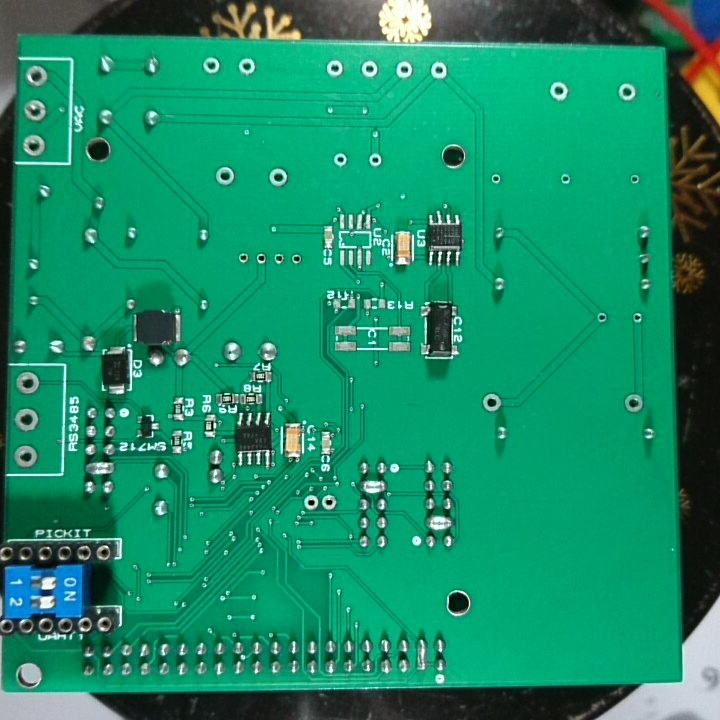F: (12, 405, 43, 434), (21, 96, 50, 126), (13, 369, 41, 399), (19, 131, 49, 158), (12, 442, 42, 469), (23, 63, 50, 91), (621, 391, 647, 418), (267, 164, 291, 192), (213, 165, 238, 191), (547, 79, 570, 103), (357, 58, 381, 81), (479, 391, 502, 414), (616, 79, 638, 103), (323, 58, 347, 80), (394, 58, 416, 82), (427, 57, 448, 81), (201, 53, 222, 77), (301, 492, 321, 515), (237, 55, 257, 77), (320, 492, 339, 514), (331, 151, 351, 169), (254, 249, 269, 269), (489, 171, 506, 188), (368, 153, 385, 170), (236, 249, 251, 268), (272, 249, 286, 269), (289, 249, 302, 269), (559, 170, 573, 188), (594, 309, 608, 326), (631, 309, 644, 327), (627, 172, 642, 186)
P: (82, 458, 116, 478), (413, 636, 430, 673), (356, 478, 388, 496), (424, 515, 454, 532)
